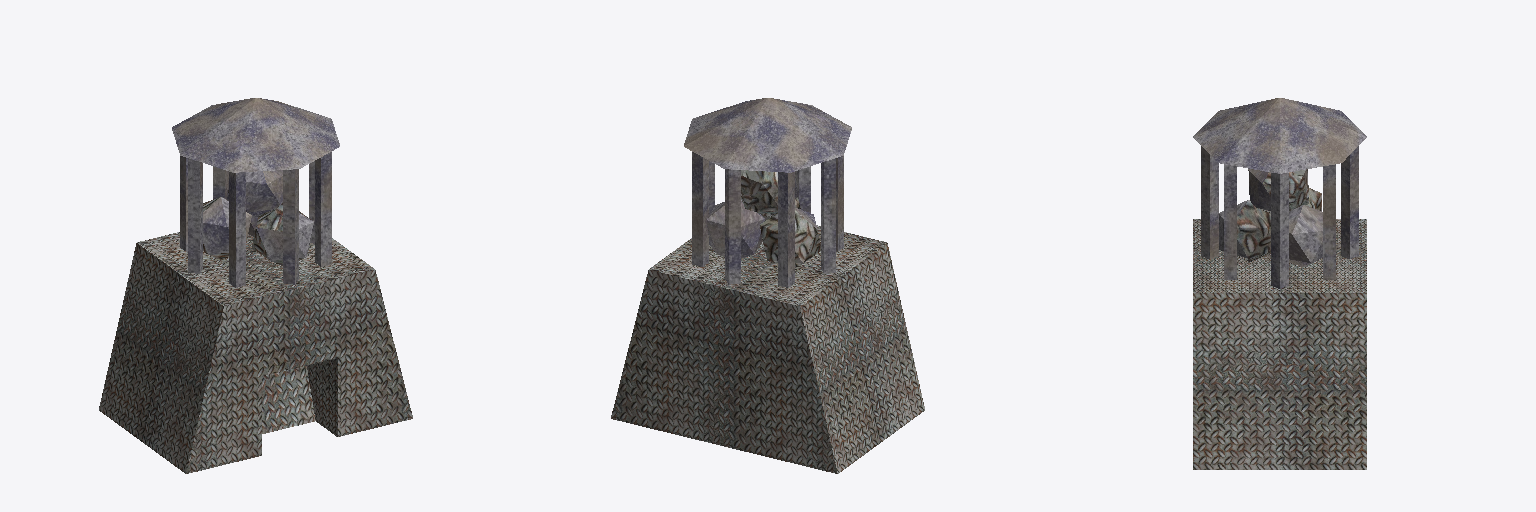
3 views of the same model, side by side, from view 1: azimuth 30°, elevation 25°; view 2: azimuth 150°, elevation 25°; view 3: azimuth 270°, elevation 25° (orthographic).
Visible parts, largest first — view 1: Cube.002_Mesh; view 2: Cube.002_Mesh; view 3: Cube.002_Mesh.
Part boxes in pixels (x1,y1,x2,y2): Cube.002_Mesh: (99, 98, 412, 473); Cube.002_Mesh: (611, 98, 924, 473); Cube.002_Mesh: (1193, 98, 1366, 469).
Size of the model in its own units: 3 by 4 by 2.
Materials: 9 (2 with a texture image).